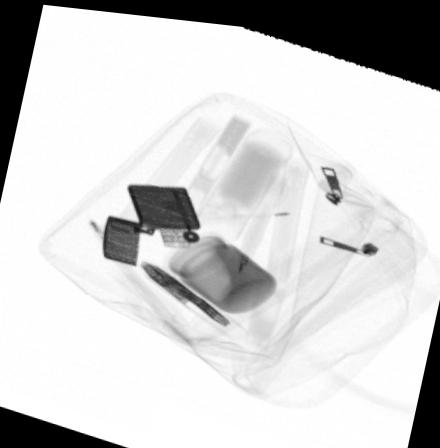Lighter: (100, 180, 203, 264)
